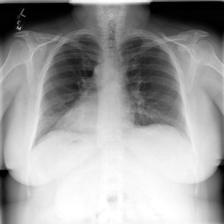normal: (31, 32, 195, 149)
